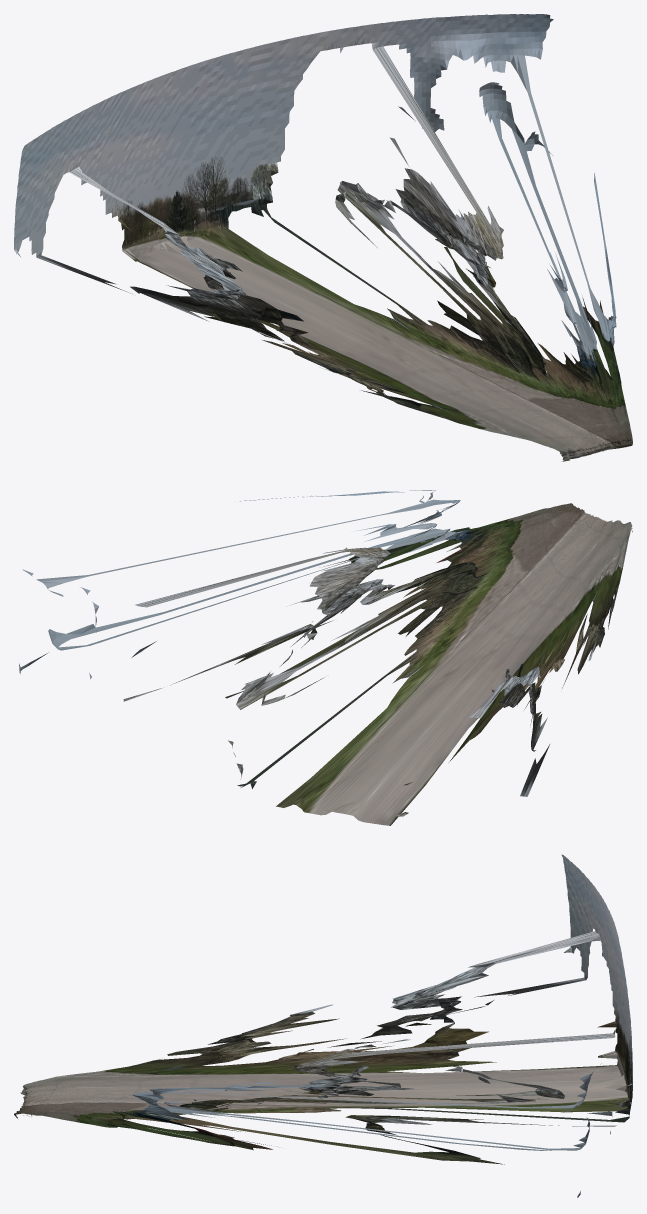
3 renders of one model, top to bottom at view 1: azimuth 30°, elevation 25°; view 2: azimuth 150°, elevation 25°; view 3: azimuth 270°, elevation 25°, orthographic. The views are drawn at different scales.
Visible parts, largest first — view 1: defaultobject; view 2: defaultobject; view 3: defaultobject.
Boxes of the visible parts, x1,y1,x2,y2 form: defaultobject: (14, 14, 632, 461); defaultobject: (19, 490, 632, 825); defaultobject: (14, 854, 632, 1197).
Size of the model in its own units: 39.97 by 12.85 by 44.77.
1 material, 1 textured.
